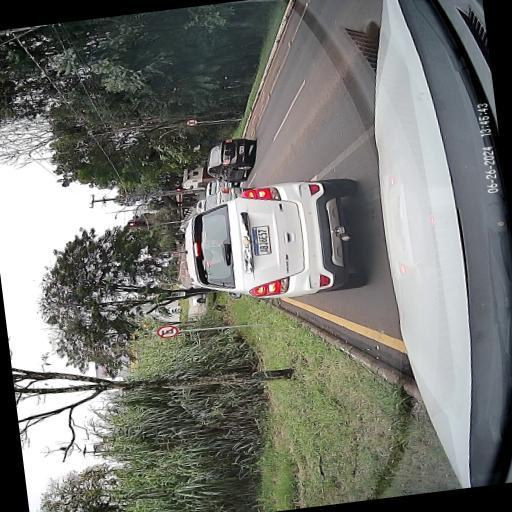R-6a: (155, 324, 178, 338)
R-6c: (185, 118, 198, 126)
